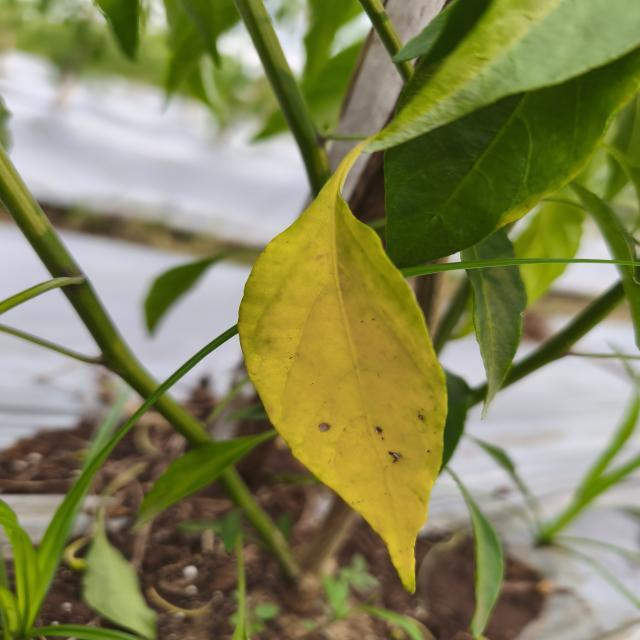Virus Kuning: (236, 175, 450, 593)
